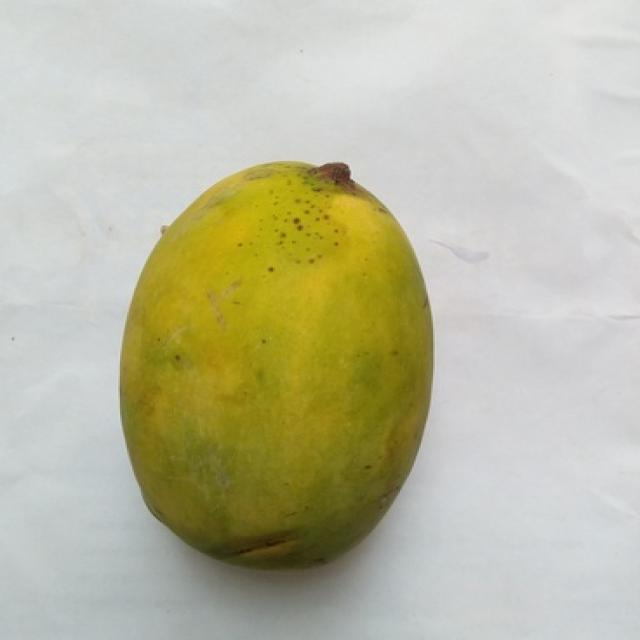Mango: (122, 162, 431, 563)
